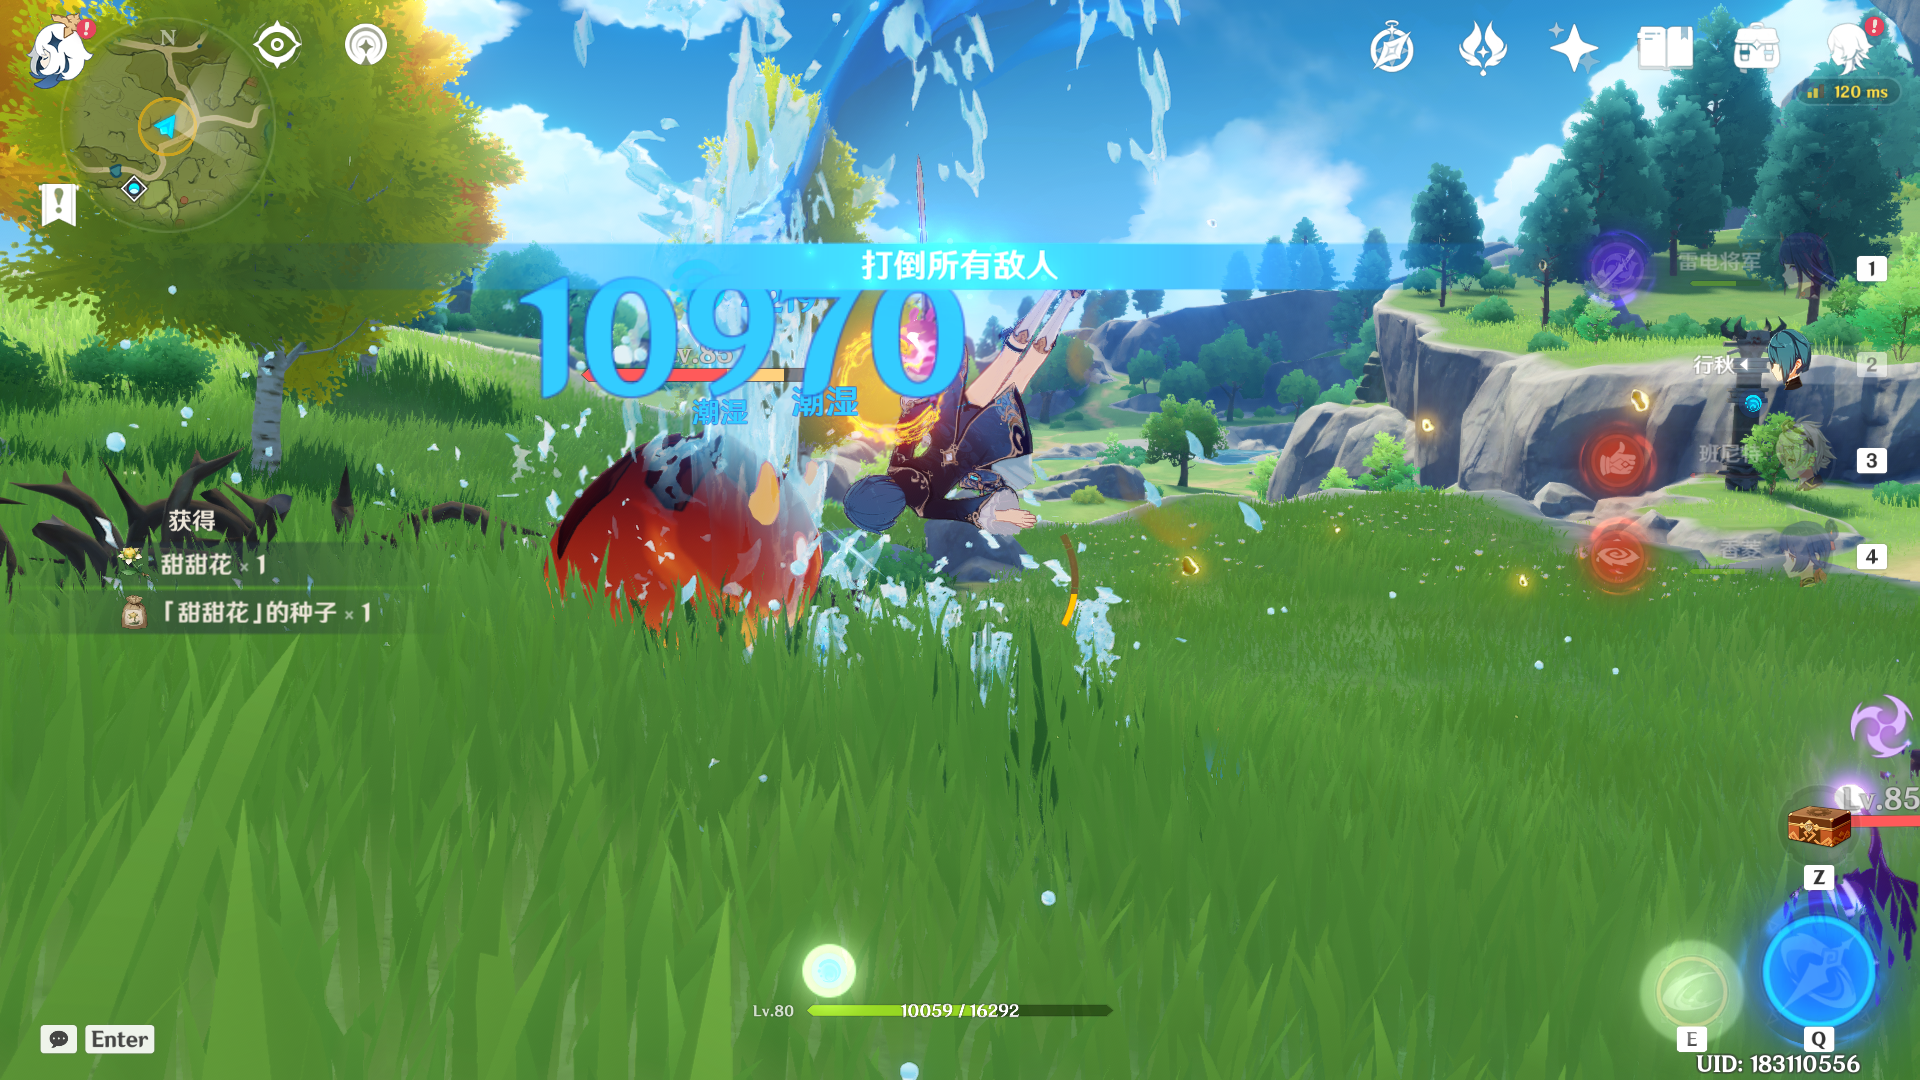character: (820, 233, 1138, 587)
slime: (537, 392, 855, 674)
